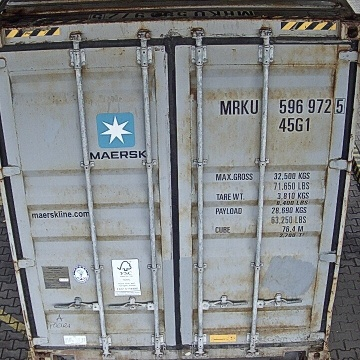serial_id: (220, 98, 345, 114)
